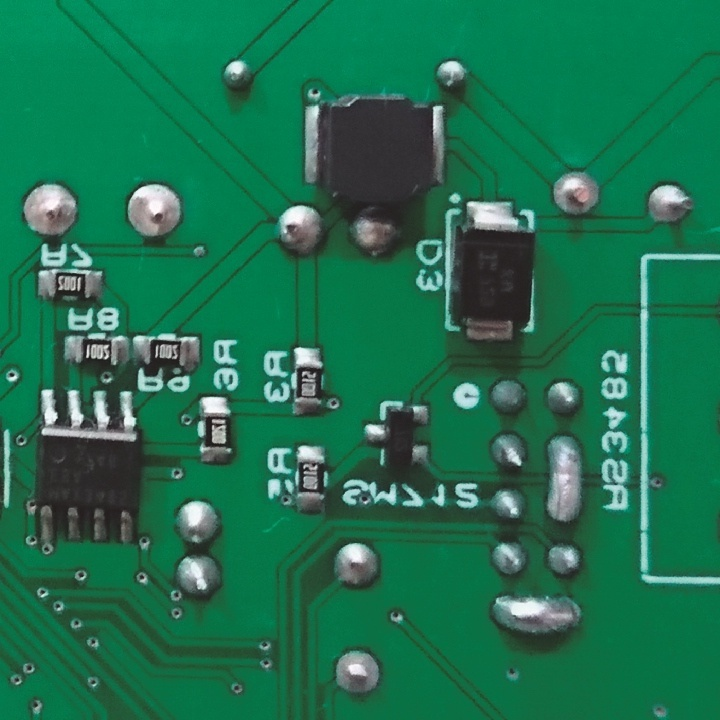F: (126, 176, 184, 243), (19, 180, 79, 240), (330, 647, 387, 696), (550, 166, 603, 218)
P: (487, 588, 586, 639), (543, 429, 586, 529)
